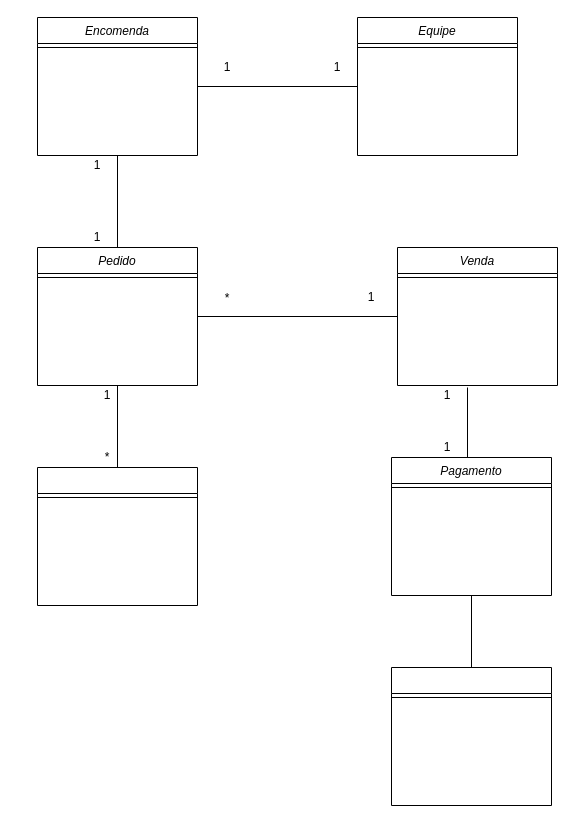
Image size: 575x823. Some labels were removed from this diagram. The centre of each missing label's shape, as x and y in pixels:
"Produto" belongs at point 117,536.
"Usuario" belongs at point 471,736.
